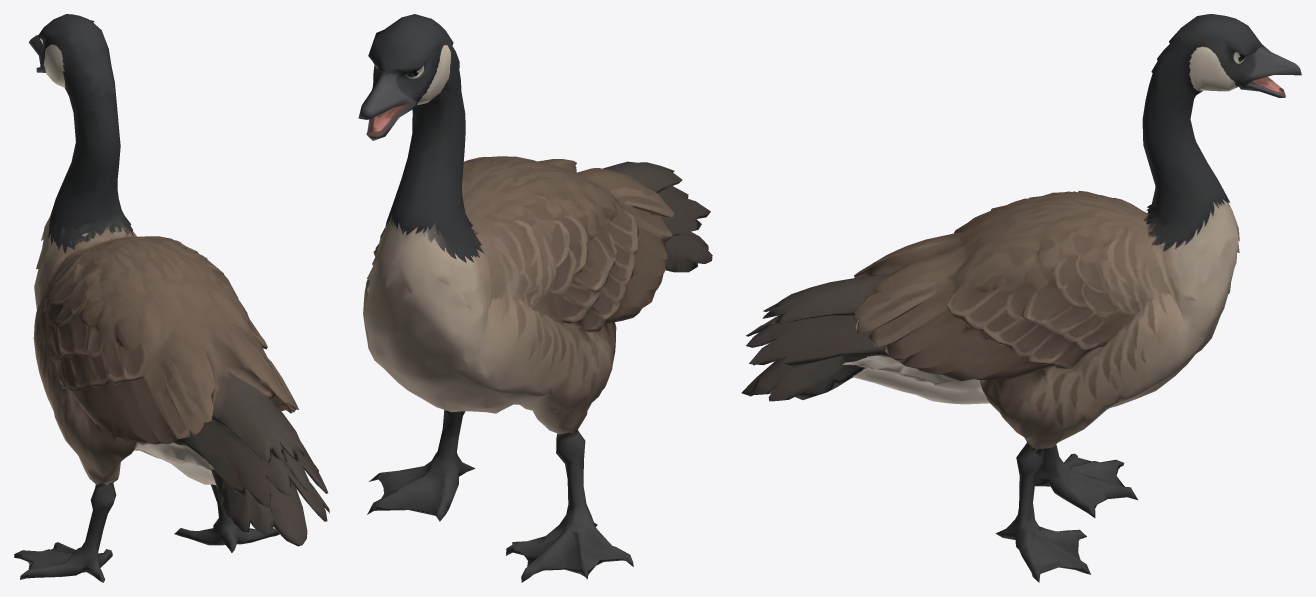
Rendered from goose.glb.
The picture shows the model from 3 angles, left to right: view 1: azimuth 30°, elevation 25°; view 2: azimuth 150°, elevation 25°; view 3: azimuth 270°, elevation 25°; orthographic projection. The views are drawn at different scales.
Parts seen in each view (by area): view 1: tripo_node_1cf6f0c4-d4ec-4083-a7a4-388a3ad71004; view 2: tripo_node_1cf6f0c4-d4ec-4083-a7a4-388a3ad71004; view 3: tripo_node_1cf6f0c4-d4ec-4083-a7a4-388a3ad71004.
Part boxes in pixels (<box>): tripo_node_1cf6f0c4-d4ec-4083-a7a4-388a3ad71004: <box>14,14,329,582</box>; tripo_node_1cf6f0c4-d4ec-4083-a7a4-388a3ad71004: <box>358,14,712,582</box>; tripo_node_1cf6f0c4-d4ec-4083-a7a4-388a3ad71004: <box>741,14,1301,582</box>.
Bounding box in the file's own units: 0.5168 × 1 × 0.9894.
1 material, 1 textured.
